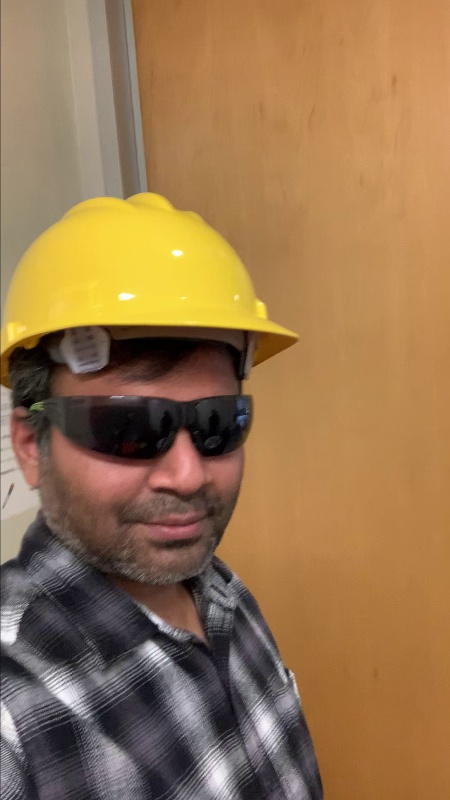glasses: (58, 387, 260, 454)
helmet: (13, 189, 291, 338)
